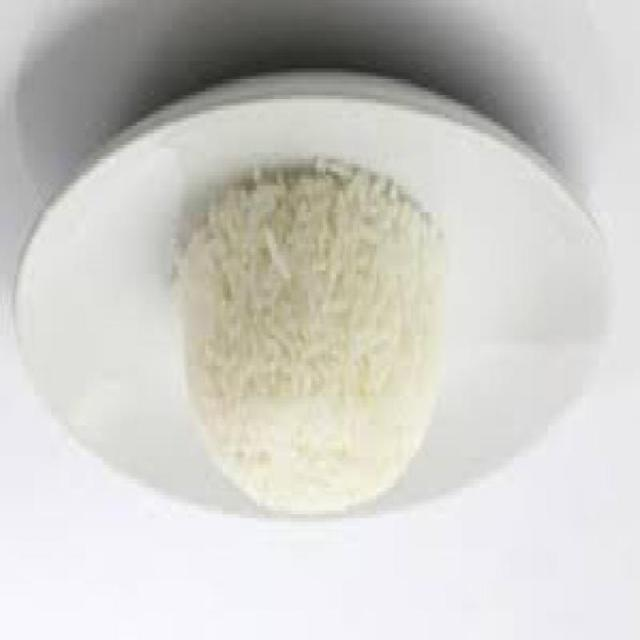nasi_putih: (177, 159, 448, 516)
